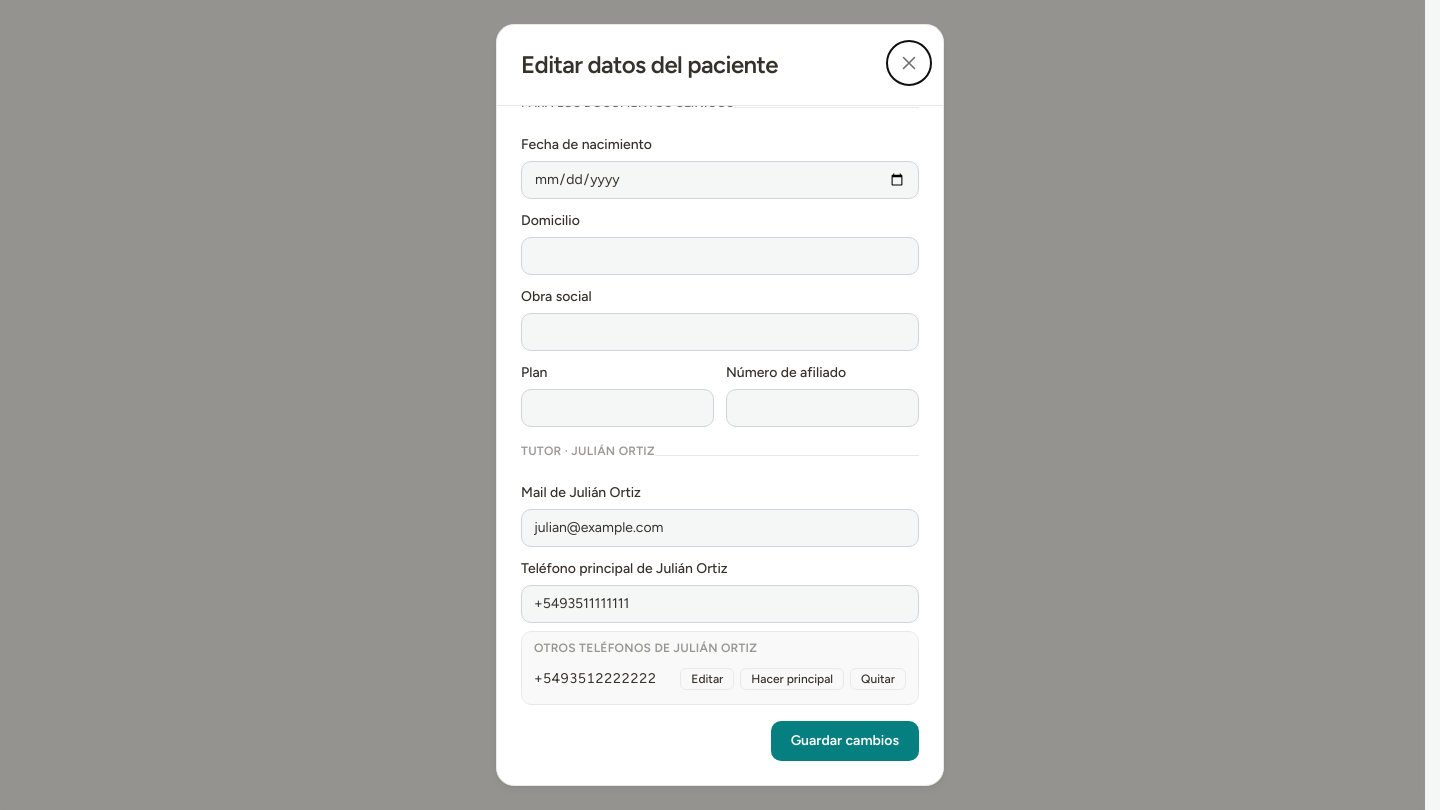
Test case: EditarPacienteModal › con otros teléfonos, exige un principal
(page scrolled)
Click the button "Guardar cambios" at (845, 741), box [771, 721, 919, 761]
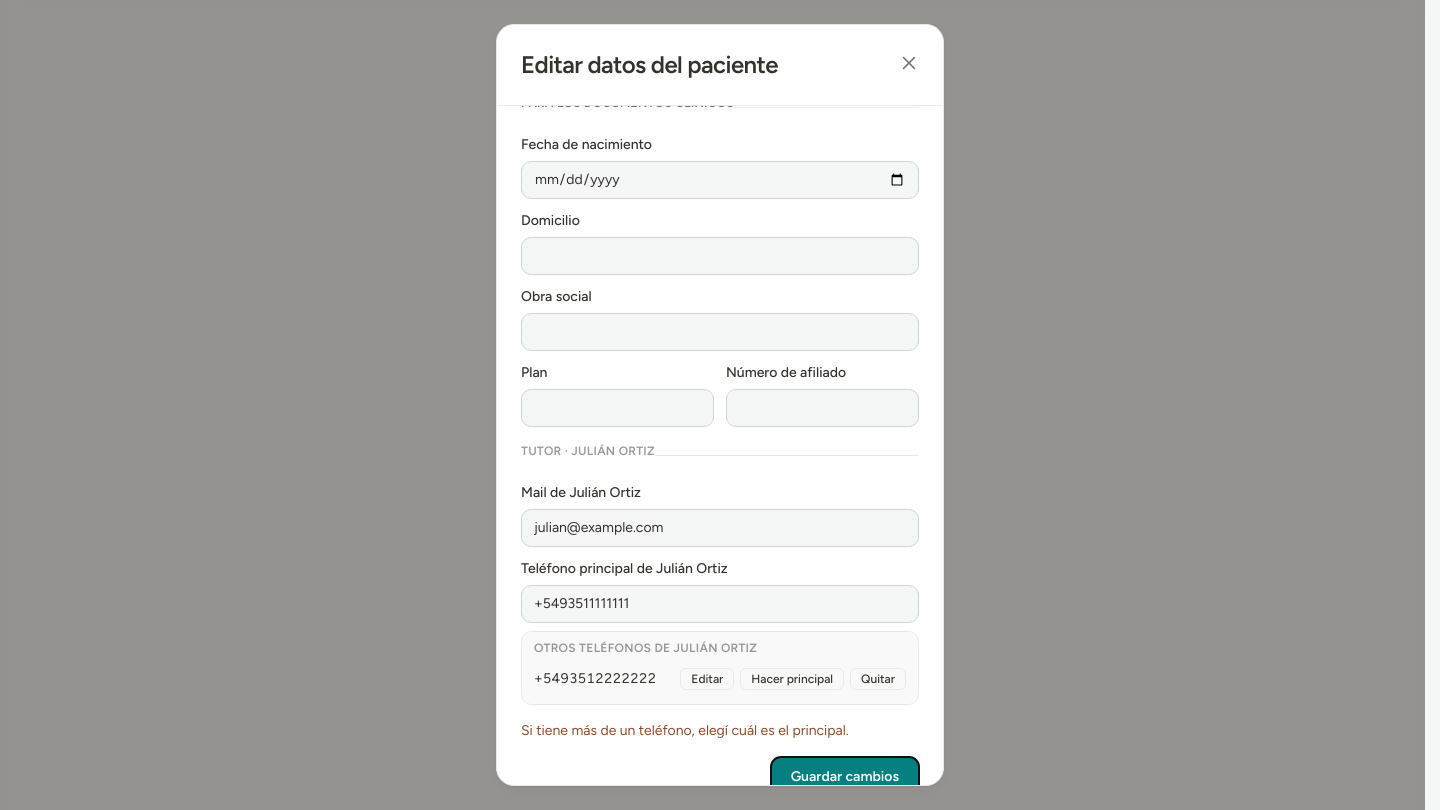
expect the message reads "Si tiene más de un teléfono, elegí cuál es el principal.": met, box [521, 722, 849, 739]
